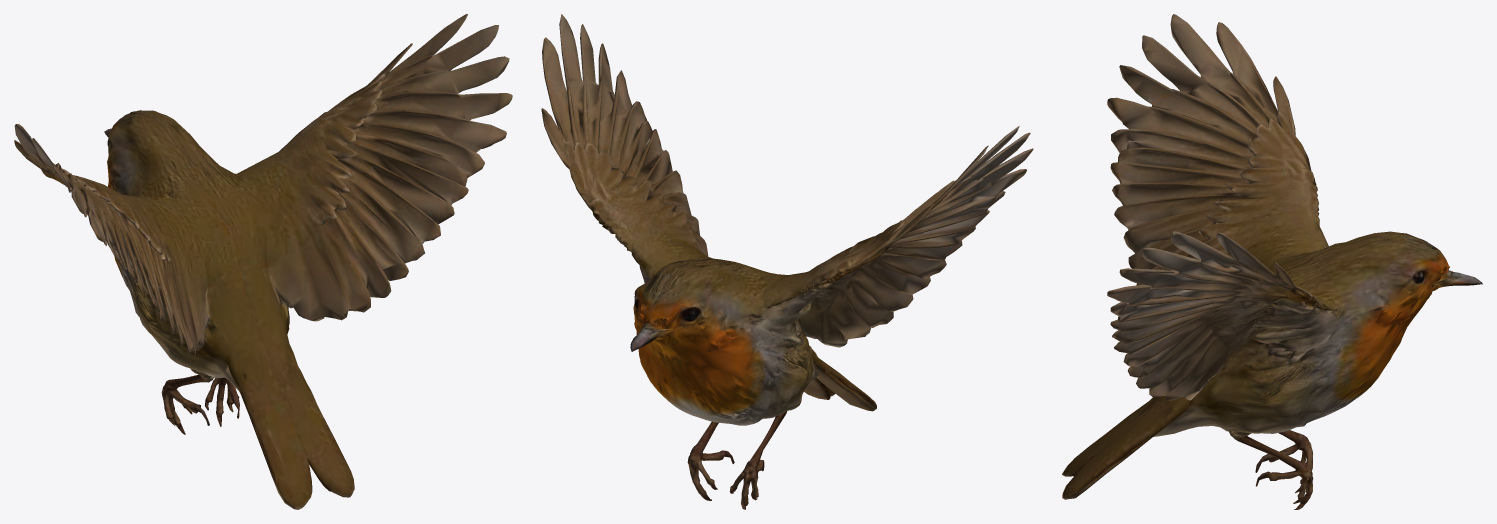
File: bird.glb
3 views of the same model, side by side, from view 1: azimuth 30°, elevation 25°; view 2: azimuth 150°, elevation 25°; view 3: azimuth 270°, elevation 25° (orthographic). The views are drawn at different scales.
Parts seen in each view (by area): view 1: tripo_node_697d0fa1-b354-4c58-a2a9-7d8b52cae03c; view 2: tripo_node_697d0fa1-b354-4c58-a2a9-7d8b52cae03c; view 3: tripo_node_697d0fa1-b354-4c58-a2a9-7d8b52cae03c.
Part boxes in pixels (left/top/right/bottom): tripo_node_697d0fa1-b354-4c58-a2a9-7d8b52cae03c: left=14, top=14, right=512, bottom=509; tripo_node_697d0fa1-b354-4c58-a2a9-7d8b52cae03c: left=541, top=14, right=1033, bottom=509; tripo_node_697d0fa1-b354-4c58-a2a9-7d8b52cae03c: left=1062, top=14, right=1482, bottom=509.
Bounding box in the file's own units: 0.9787 × 0.7959 × 0.8002.
1 material, 1 textured.
